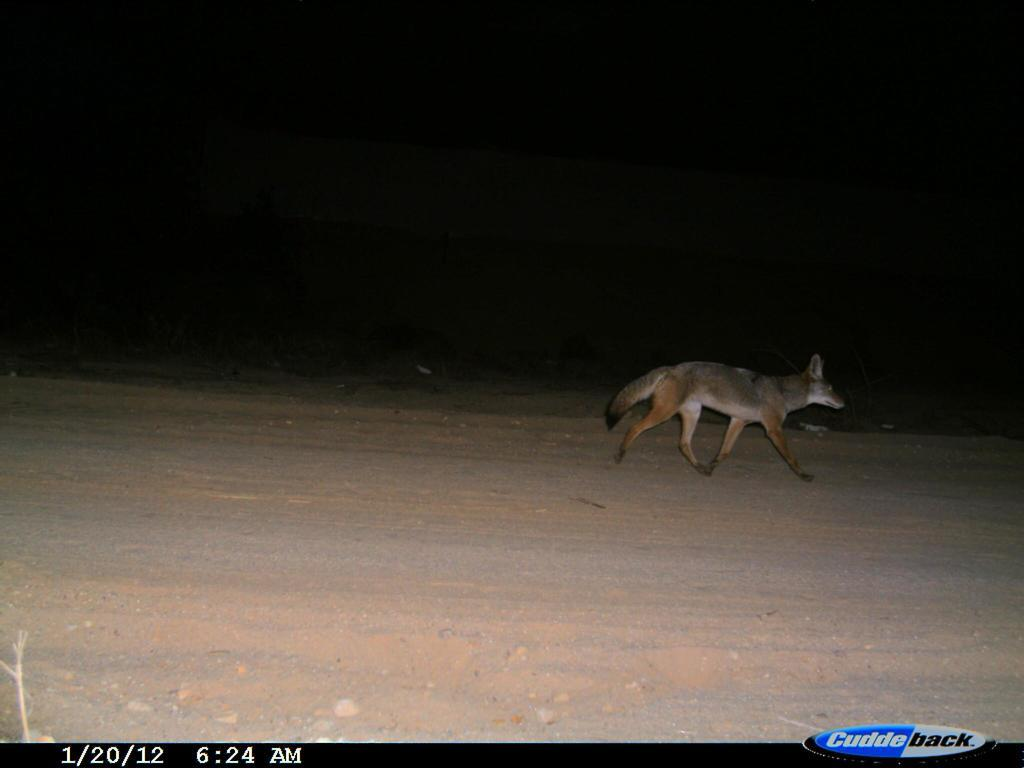coyote: (593, 349, 859, 495)
